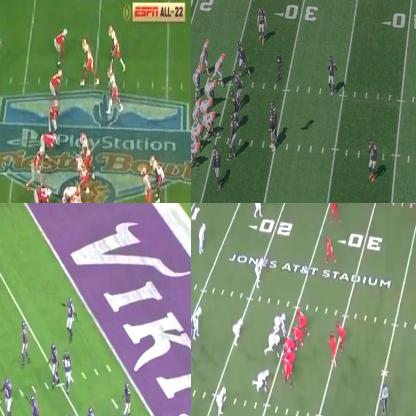CENTER: (206, 110, 218, 140), (59, 185, 79, 202), (283, 332, 296, 348)
DB: (62, 292, 79, 341), (48, 69, 64, 102), (53, 27, 66, 64), (62, 350, 72, 386), (370, 140, 378, 181), (328, 56, 336, 95), (124, 380, 132, 415), (218, 387, 228, 415), (194, 307, 203, 337), (198, 223, 206, 252), (259, 8, 266, 41), (256, 203, 266, 217), (83, 407, 100, 415)
LB: (29, 145, 45, 188), (48, 344, 58, 388), (19, 321, 29, 364), (237, 40, 248, 78), (267, 110, 276, 151), (212, 144, 220, 187), (50, 102, 58, 135), (233, 317, 242, 344), (256, 260, 263, 288), (269, 100, 276, 110)
QB: (141, 164, 153, 202), (193, 98, 203, 125), (328, 329, 335, 363)
SKILL: (81, 39, 99, 87), (107, 26, 126, 70), (107, 66, 124, 112), (152, 156, 164, 192), (192, 64, 204, 94), (326, 238, 336, 264), (200, 38, 209, 66), (217, 53, 224, 88), (338, 321, 346, 350), (328, 203, 340, 222)
